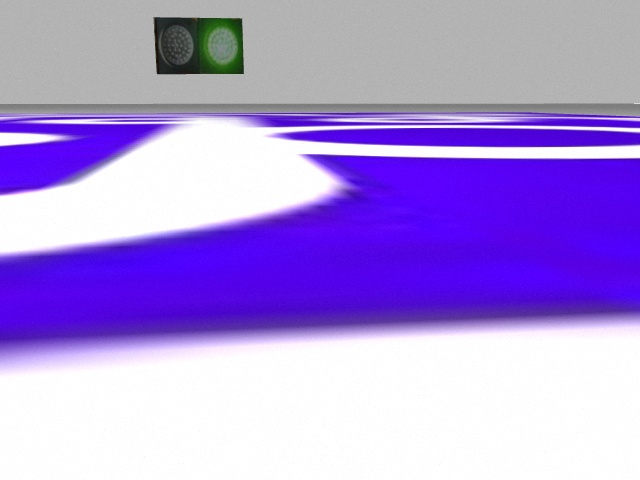green: (200, 20, 246, 74)
